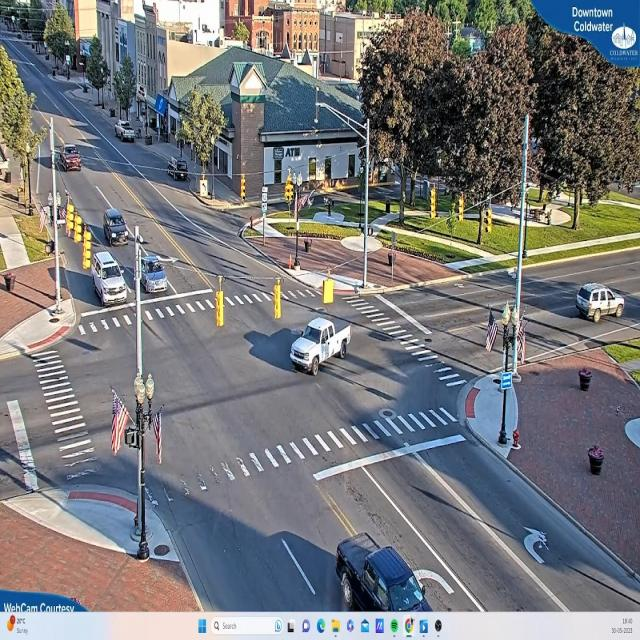car: (333, 541, 452, 614), (290, 318, 351, 375), (92, 250, 128, 309), (575, 283, 623, 322), (142, 257, 170, 295), (105, 210, 130, 247), (164, 156, 190, 180), (58, 148, 82, 172), (116, 124, 136, 142)
